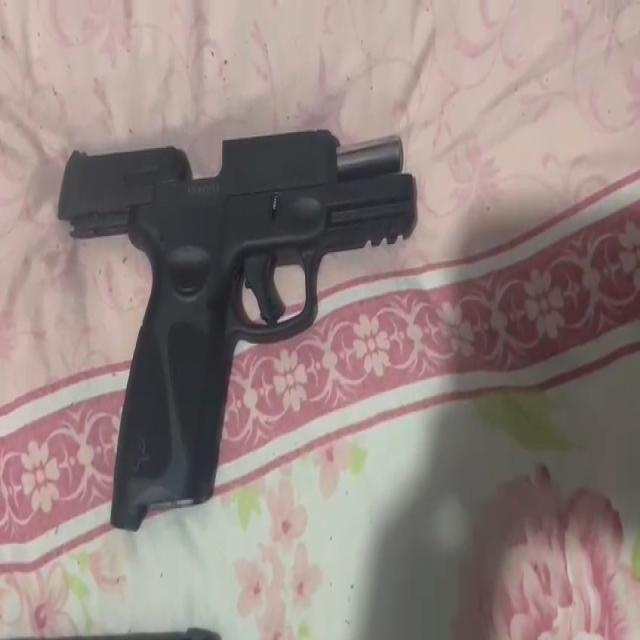gun: (55, 124, 419, 536)
